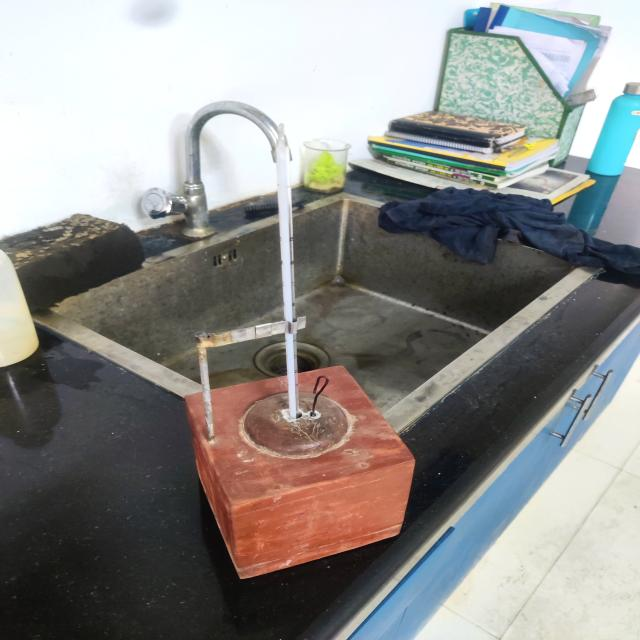Calorimeter: (154, 100, 442, 602)
